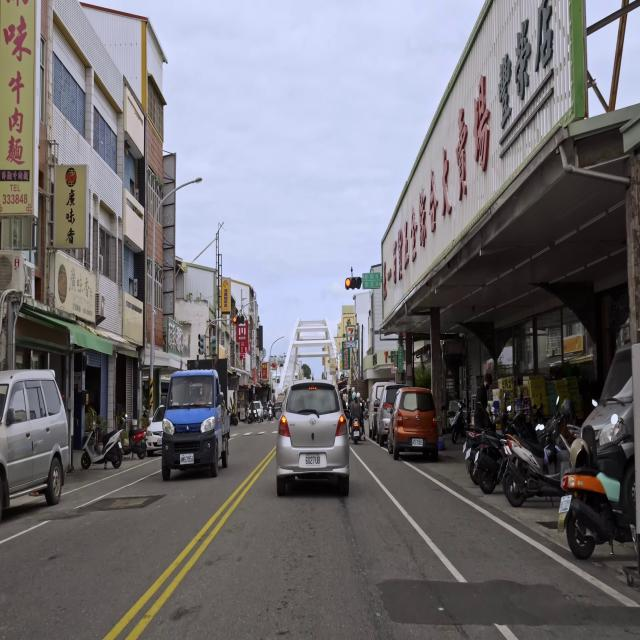red light: (345, 277, 362, 289), (232, 316, 245, 324)
